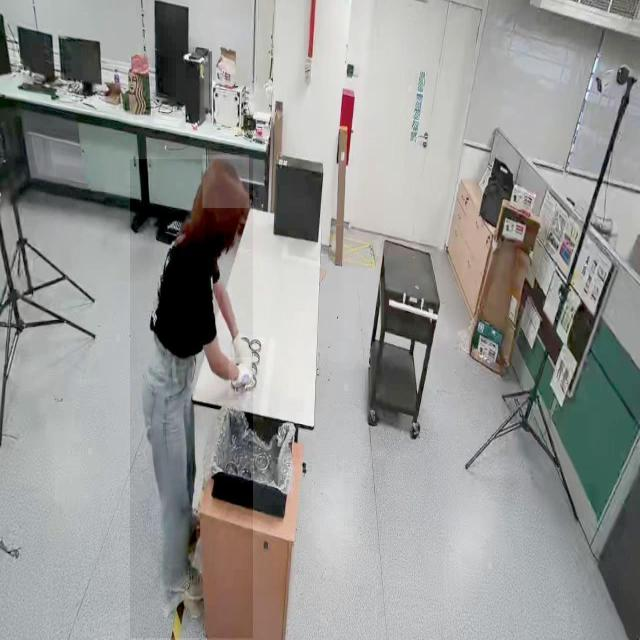hand_glove: (228, 331, 256, 374), (228, 358, 252, 398)
head_nohelmet: (202, 155, 250, 209)
person: (130, 159, 254, 639)
